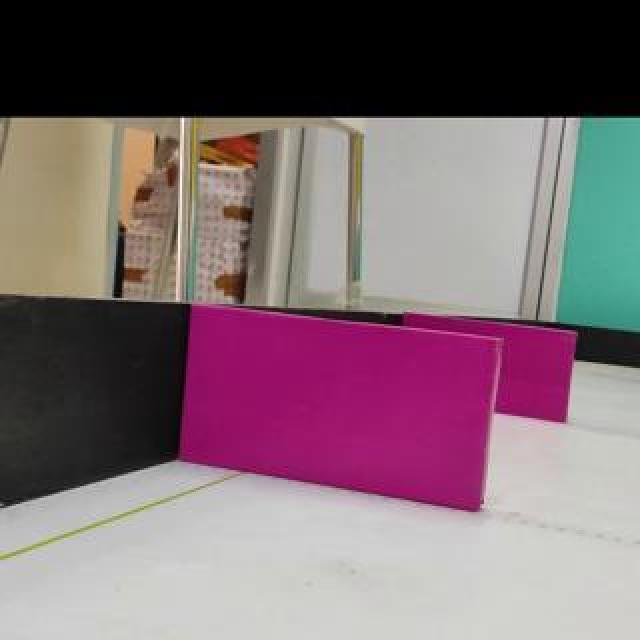xparking: (182, 304, 498, 510), (497, 325, 573, 423)
